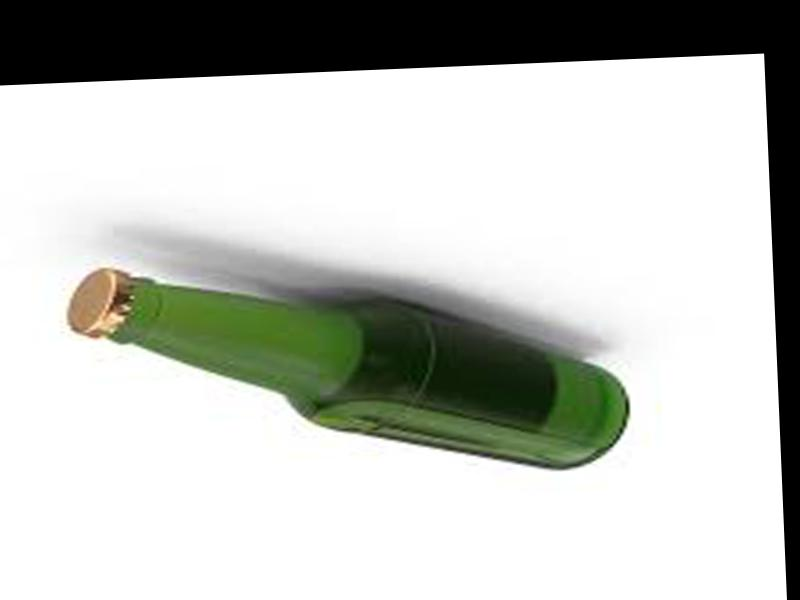Beer: (61, 245, 632, 490)
